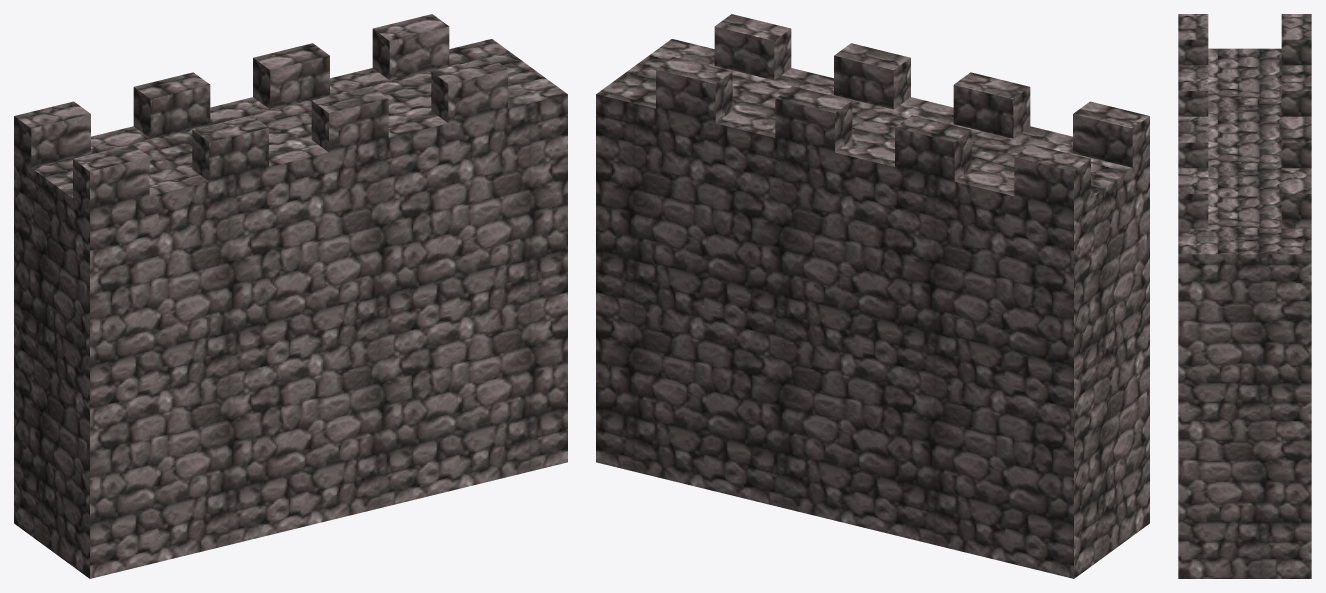
The model's file is MedievalMuroFBX.fbx.
3 views of the same model, side by side, from view 1: azimuth 30°, elevation 25°; view 2: azimuth 150°, elevation 25°; view 3: azimuth 270°, elevation 25° (orthographic). The views are drawn at different scales.
Parts seen in each view (by area): view 1: Cube.003; view 2: Cube.003; view 3: Cube.003.
Boxes of the visible parts, x1=… form: Cube.003: x1=14, y1=14, x2=567, y2=578; Cube.003: x1=596, y1=14, x2=1149, y2=578; Cube.003: x1=1178, y1=14, x2=1311, y2=578.
Size of the model in its own units: 1254 by 1022 by 344.
1 material, 1 textured.
